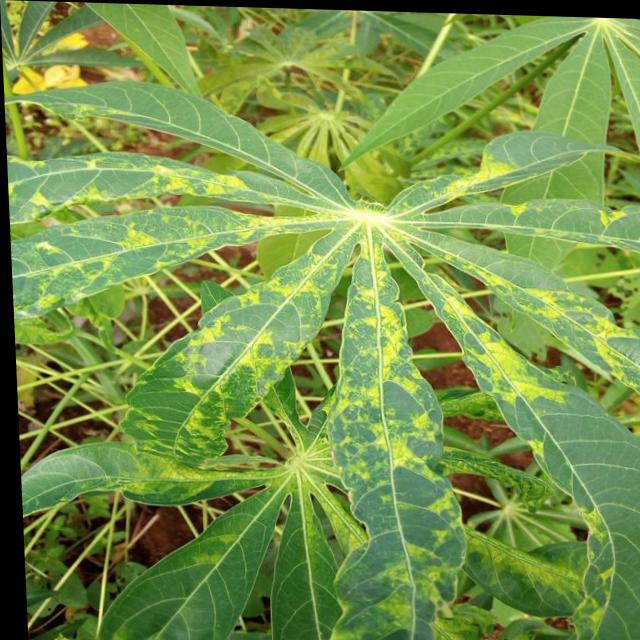Mosaico: (38, 140, 615, 536)
